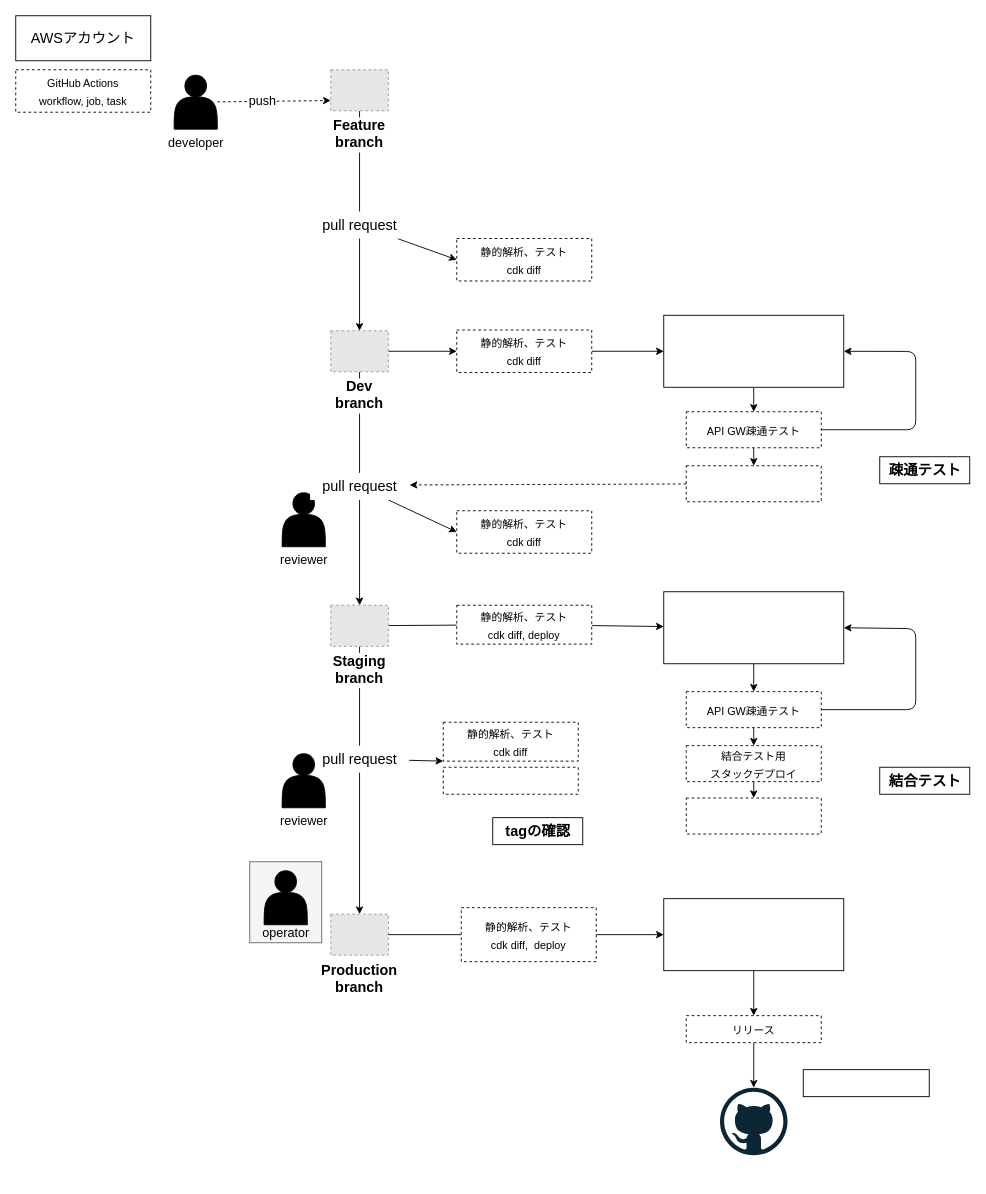
This 986x1194 diagram has some shape labels left out. Grey dashed boxes stand in for pictures. Here are the shapes that lost their labels. From the top down, the centre of each, then its label:
At (753,350): "開発環境".
At (753,483): "pull request作成".
At (753,627): "ステージング環境".
At (510,780): "tagチェック".
At (753,815): "結合テスト実行".
At (753,934): "本番環境".
At (865,1083): "リリースの作成".
At (753,1121): "GitHub Release".
